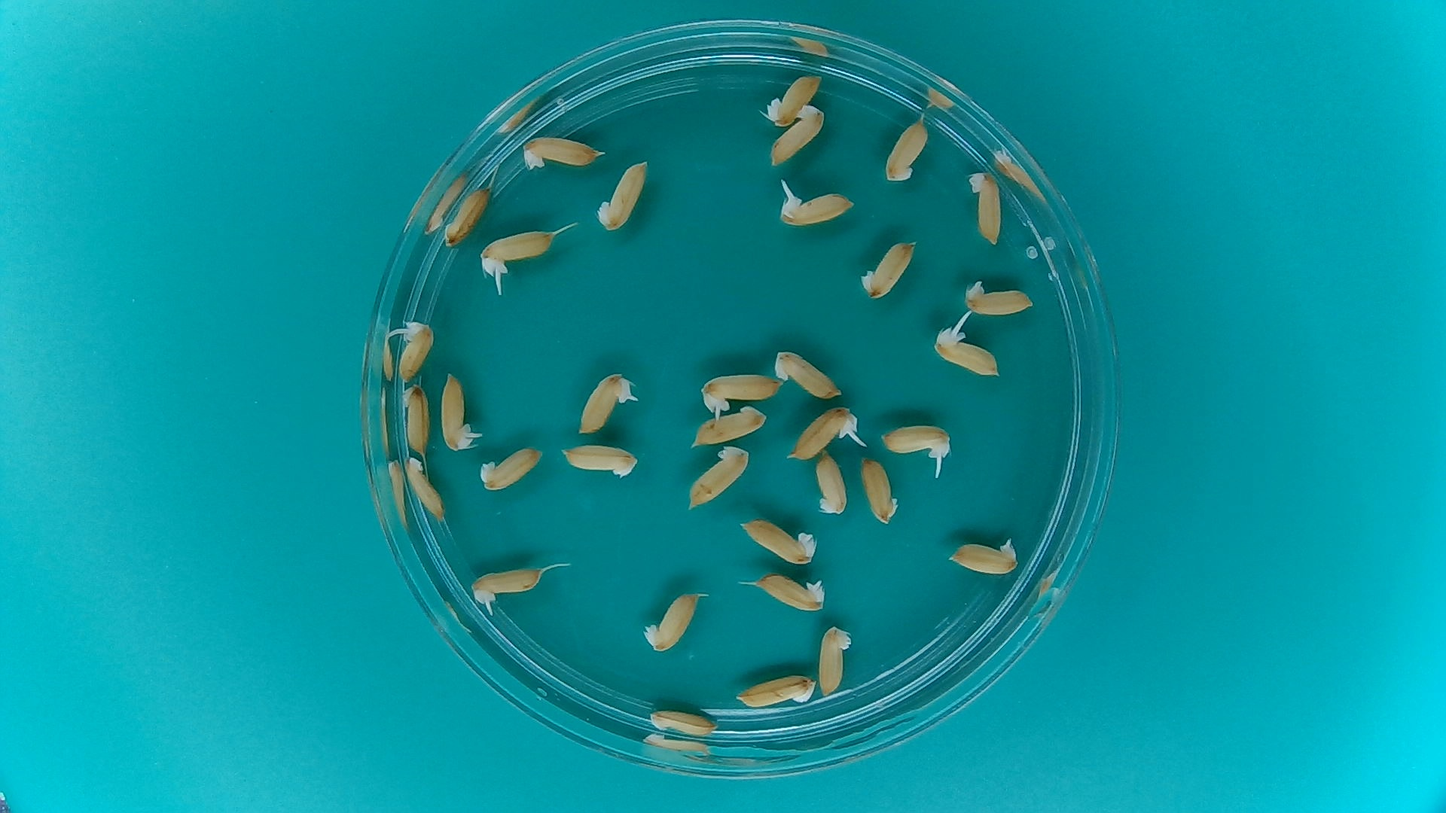no: (593, 155, 651, 235), (640, 589, 706, 655), (736, 515, 818, 568), (687, 446, 752, 512), (880, 113, 932, 184), (865, 236, 920, 303), (440, 181, 492, 251), (944, 531, 1023, 577), (774, 349, 842, 402), (763, 69, 824, 128), (477, 443, 546, 494), (857, 452, 902, 530), (518, 130, 607, 169), (770, 105, 825, 168), (965, 167, 1007, 249), (555, 440, 641, 480), (748, 571, 829, 613), (815, 620, 856, 702), (689, 405, 766, 448), (731, 671, 817, 709), (403, 454, 448, 523), (813, 446, 850, 519), (399, 379, 432, 458), (648, 705, 718, 736)
yes: (785, 405, 857, 459), (573, 370, 630, 435), (700, 370, 783, 410), (480, 229, 553, 274), (780, 190, 859, 230), (468, 562, 541, 604), (935, 329, 996, 379), (881, 423, 953, 464), (961, 279, 1038, 317), (392, 317, 436, 382), (437, 372, 471, 454)
